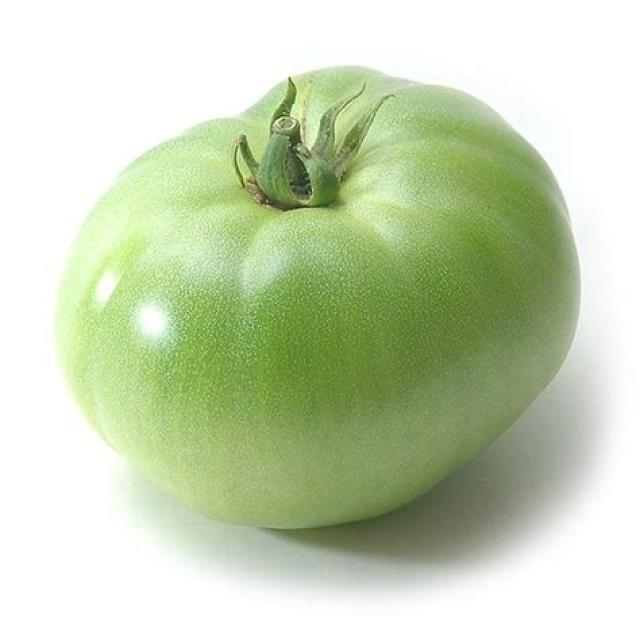Tomato: (50, 66, 583, 535)
